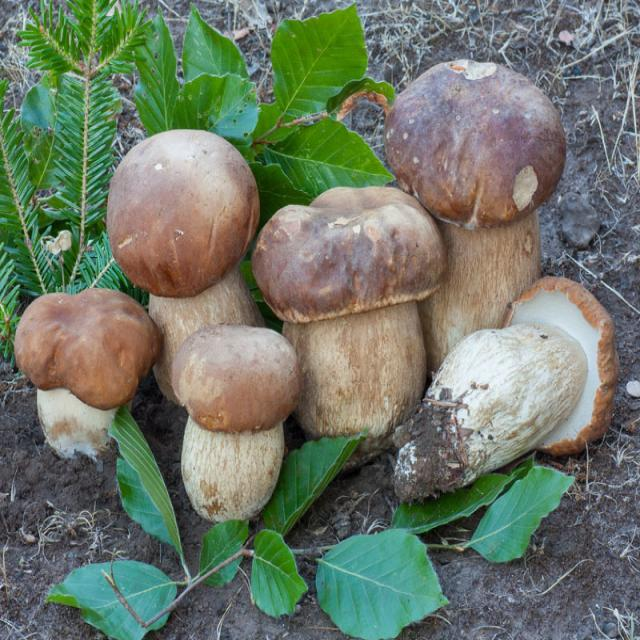Boletus: (390, 62, 569, 374), (399, 276, 618, 494), (260, 183, 444, 432), (110, 130, 271, 404), (177, 327, 299, 519), (19, 288, 158, 456)
